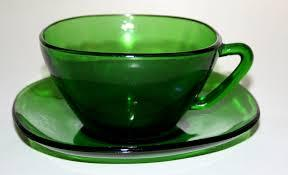glass: (10, 12, 262, 164)
